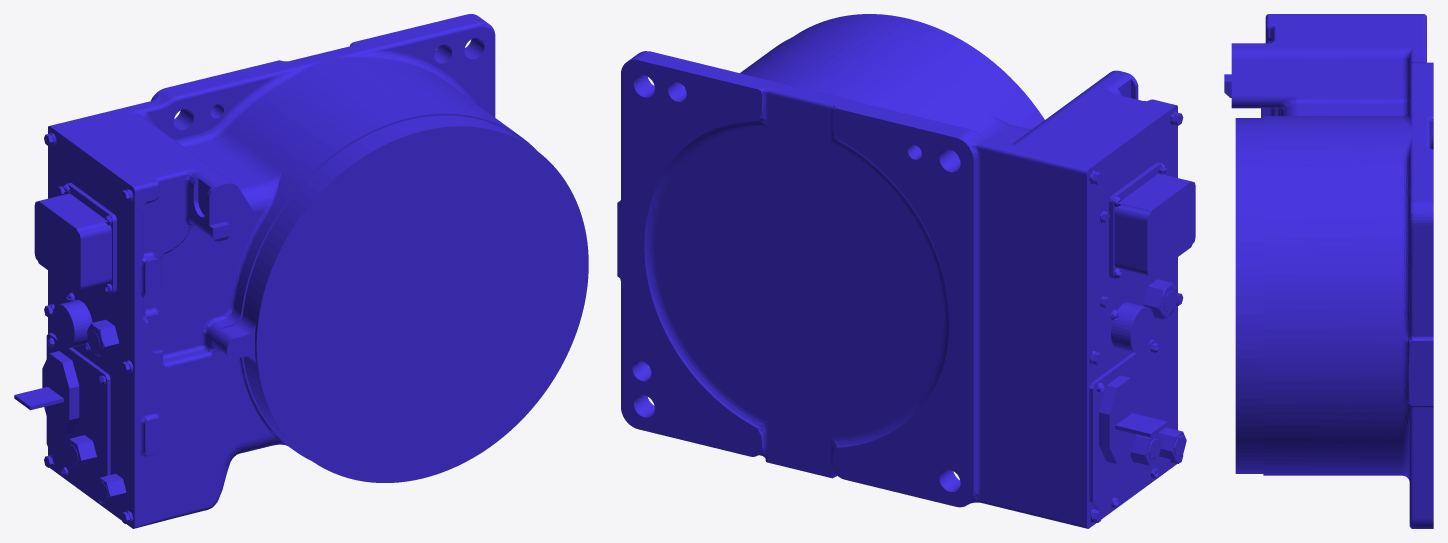
File: BaseLink.glb
The picture shows the model from 3 angles, left to right: view 1: azimuth 30°, elevation 25°; view 2: azimuth 150°, elevation 25°; view 3: azimuth 270°, elevation 25°; orthographic projection. The views are drawn at different scales.
Visible parts, largest first — view 1: /Gp12_Base_Link/Gp12_Base_Link-mesh/0; view 2: /Gp12_Base_Link/Gp12_Base_Link-mesh/0; view 3: /Gp12_Base_Link/Gp12_Base_Link-mesh/0.
Boxes of the visible parts, x1,y1,x2,y2 form: /Gp12_Base_Link/Gp12_Base_Link-mesh/0: (14,14,588,528); /Gp12_Base_Link/Gp12_Base_Link-mesh/0: (617,14,1195,528); /Gp12_Base_Link/Gp12_Base_Link-mesh/0: (1224,14,1433,528).
Size of the model in its own units: 0.4384 by 0.303 by 0.1745.
